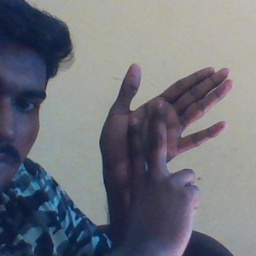N: (97, 60, 236, 223)
